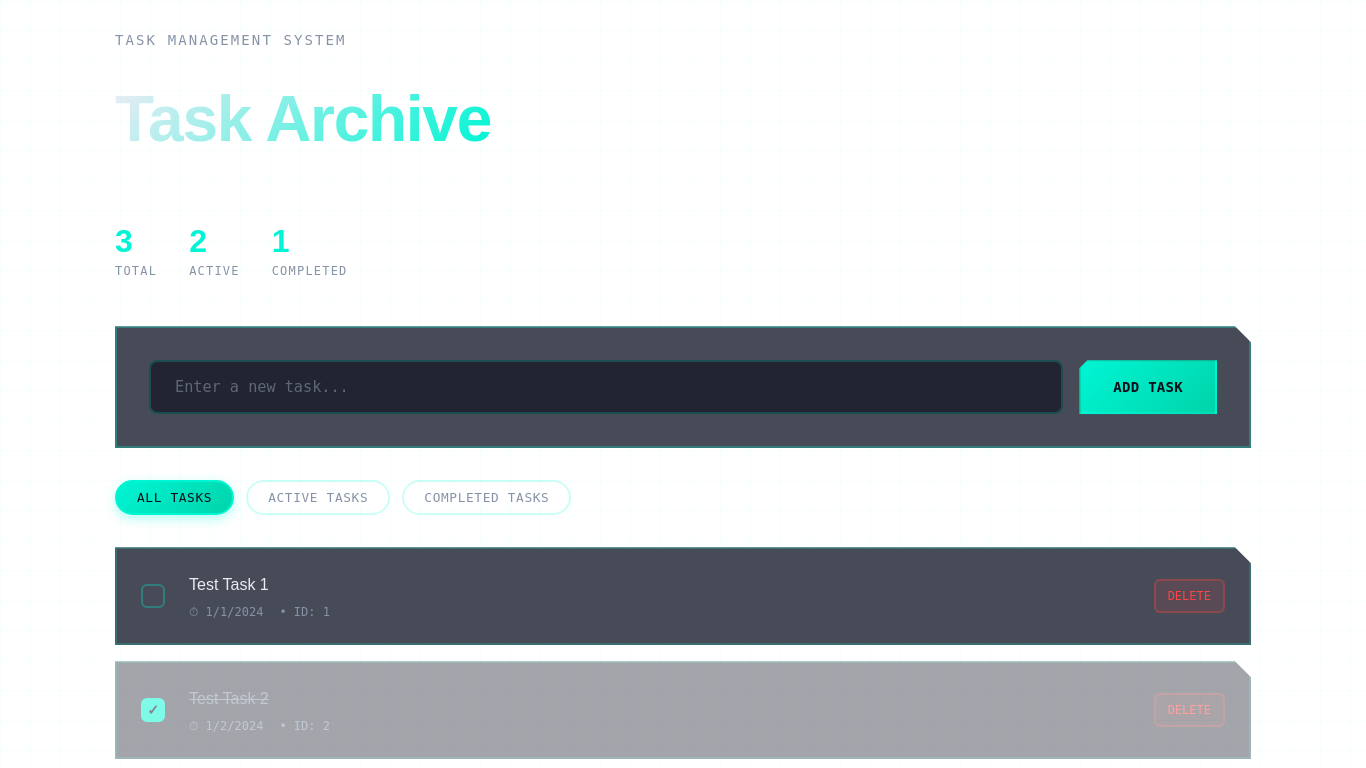
Test: TodoManager Component › Filtering › filters to show only completed tasks
Expected: the text "Test Task 1" is shown, [189,576,269,593]
What coordinates should you click on to do the following:
click the button "Completed Tasks"
I would click on:
 (487, 498)
Its box is [402,480,572,515].
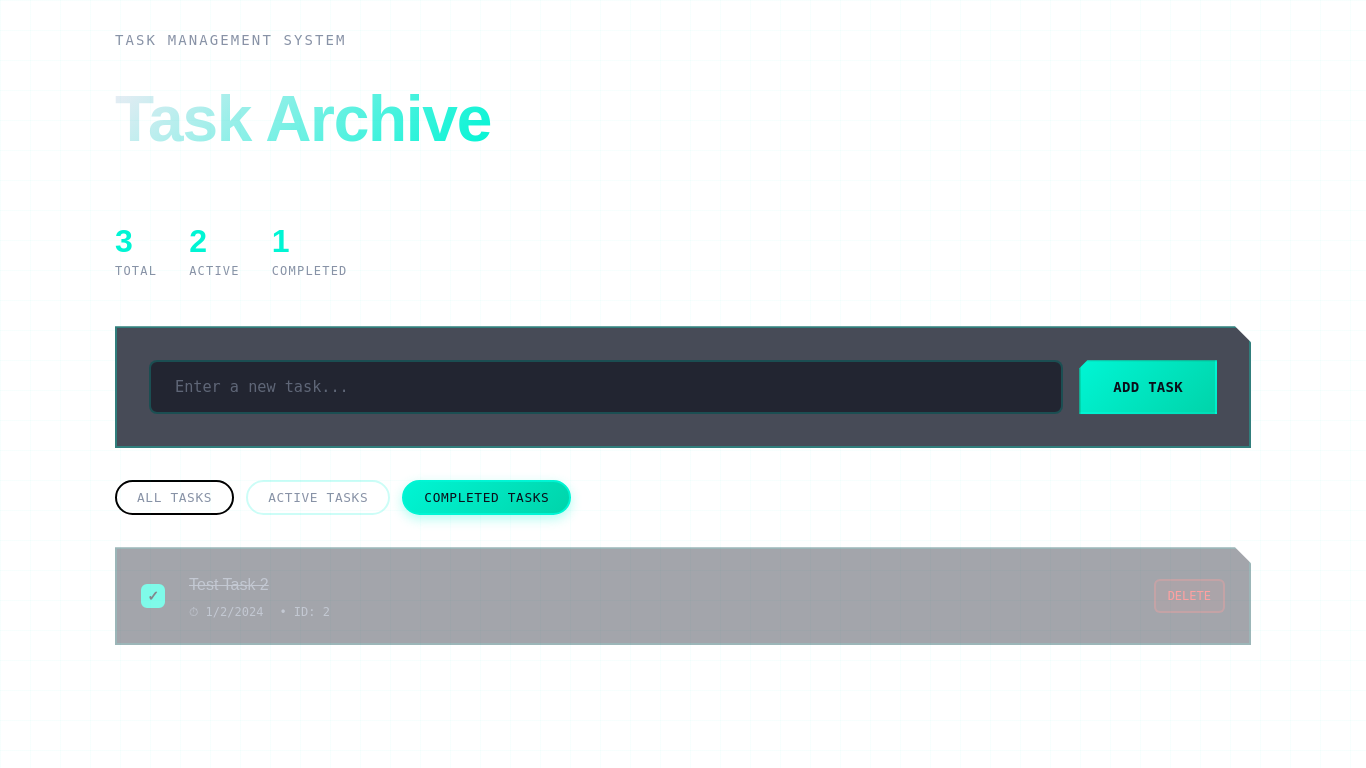
Expected: the text "Test Task 2" is shown, [189,576,269,593]
Now the text "Test Task 1" is gone
